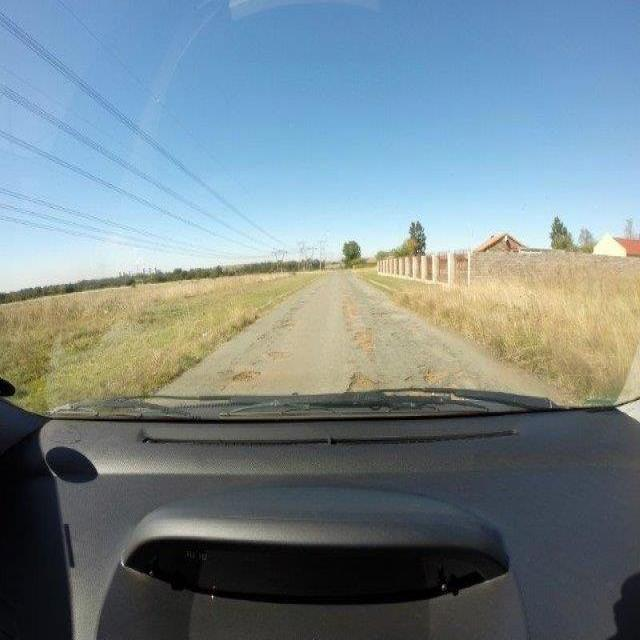lubang: (337, 370, 388, 390), (414, 362, 452, 386), (353, 327, 379, 356), (232, 365, 266, 387), (341, 296, 359, 327), (267, 348, 295, 363), (274, 316, 298, 332)
